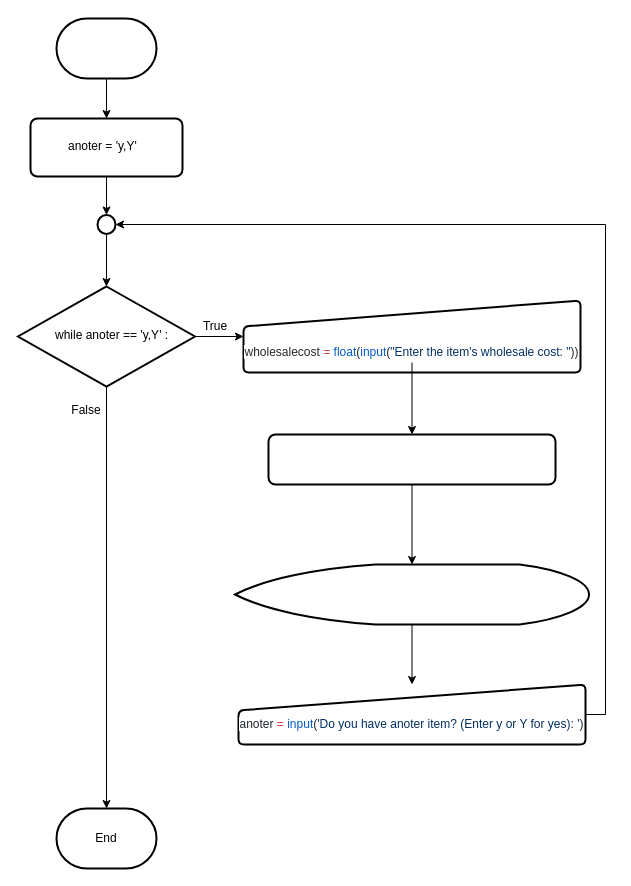
Some shapes in this 631 by 886 pixel diagram are drawn without their labels. The box of each missing label's shape, as (x1, y1, x2, y2) in pixels:
Begin: (55, 17, 157, 79)
print('Retail price: $',format(retailprice ,'.1f')): (234, 563, 590, 625)
retailprice = wholesalecost*2.5: (267, 433, 556, 485)
